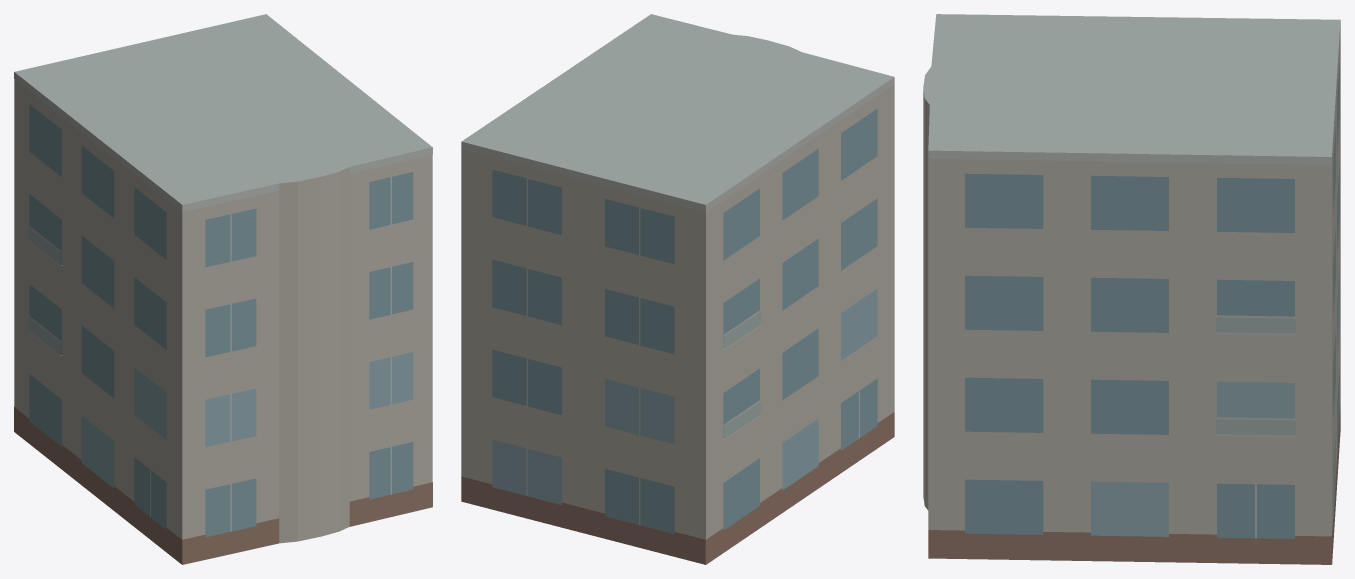
Rendered from survey-upis-32990788.glb.
3 views of the same model, side by side, from view 1: azimuth 30°, elevation 25°; view 2: azimuth 150°, elevation 25°; view 3: azimuth 270°, elevation 25° (orthographic). The views are drawn at different scales.
Parts seen in each view (by area): view 1: survey-upis-32990788.tmp; view 2: survey-upis-32990788.tmp; view 3: survey-upis-32990788.tmp.
Boxes of the visible parts, left/top/right/bottom form: survey-upis-32990788.tmp: left=14, top=14, right=432, bottom=564; survey-upis-32990788.tmp: left=461, top=14, right=894, bottom=564; survey-upis-32990788.tmp: left=923, top=14, right=1340, bottom=564.
Bounding box in the file's own units: 9.19 × 12.2 × 11.32.
